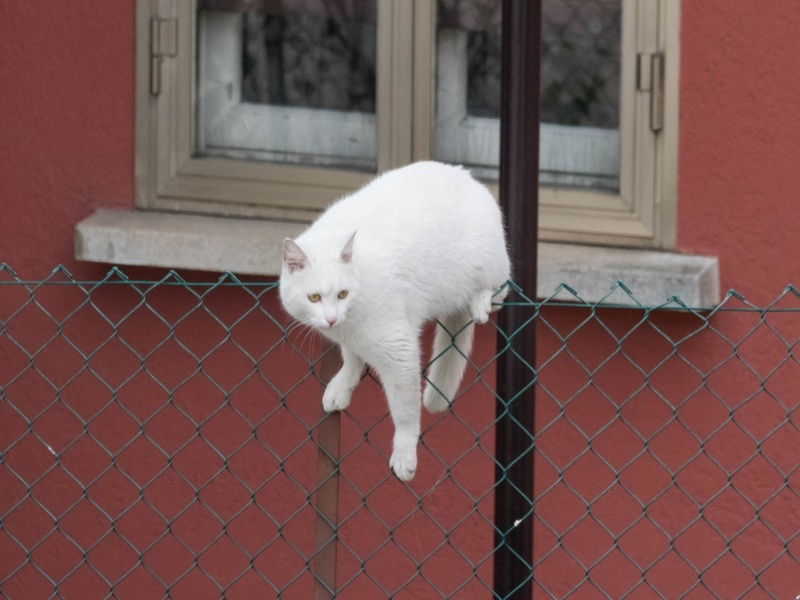cat: (271, 154, 514, 489)
